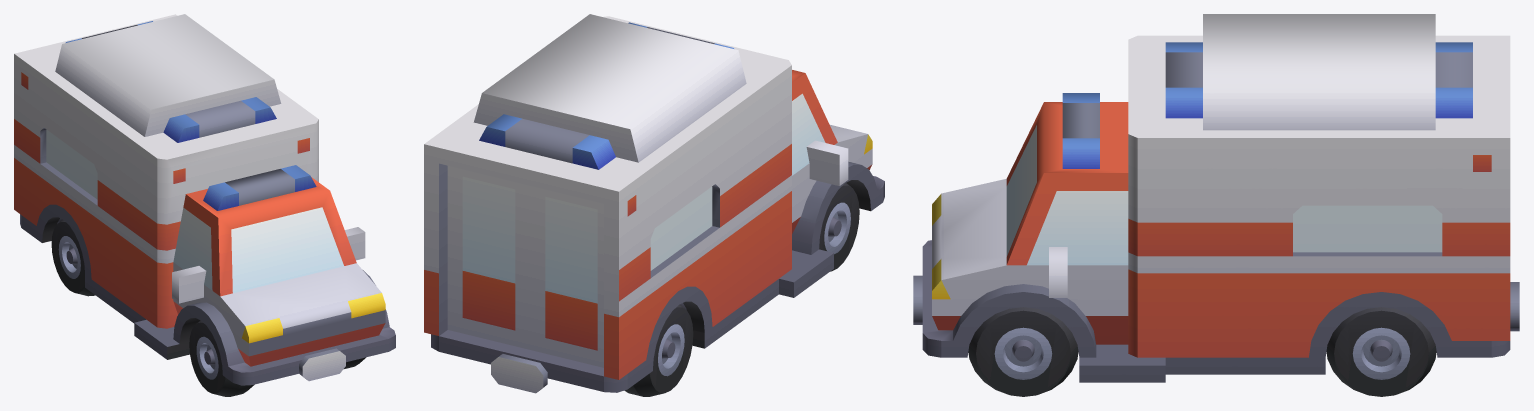
File: kenney-ambulance.glb
The picture shows the model from 3 angles, left to right: view 1: azimuth 30°, elevation 25°; view 2: azimuth 150°, elevation 25°; view 3: azimuth 270°, elevation 25°; orthographic projection. The views are drawn at different scales.
Parts seen in each view (by area): view 1: body; view 2: body; view 3: body.
Part boxes in pixels (bbox=[...]): body: bbox=[14, 14, 395, 396]; body: bbox=[424, 14, 884, 396]; body: bbox=[913, 14, 1519, 396].
Bounding box in the file's own units: 1.5 × 1.8 × 3.25.
1 material, 1 textured.
